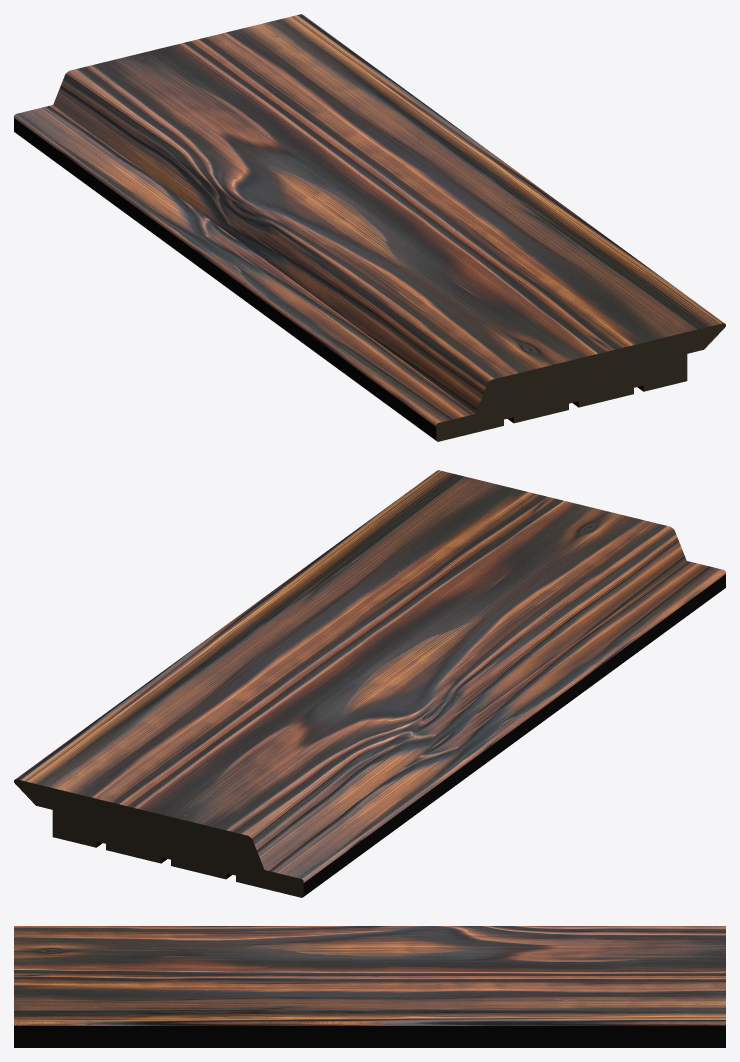
The model's file is larch-facade-half-tongue-45-natural.glb.
3 renders of one model, top to bottom at view 1: azimuth 30°, elevation 25°; view 2: azimuth 150°, elevation 25°; view 3: azimuth 270°, elevation 25°, orthographic. The views are drawn at different scales.
Visible parts, largest first — view 1: Pusė_Špunto_45; view 2: Pusė_Špunto_45; view 3: Pusė_Špunto_45.
Part boxes in pixels (x1,y1,x2,y2): Pusė_Špunto_45: (14,14,725,441); Pusė_Špunto_45: (14,470,725,897); Pusė_Špunto_45: (14,926,725,1047).
Size of the model in its own units: 0.0723 by 0.0117 by 0.1826.
3 materials, 1 textured.
